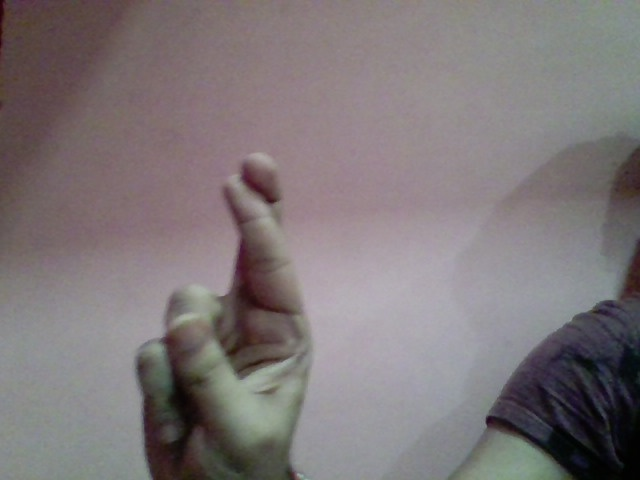r: (124, 143, 327, 476)
